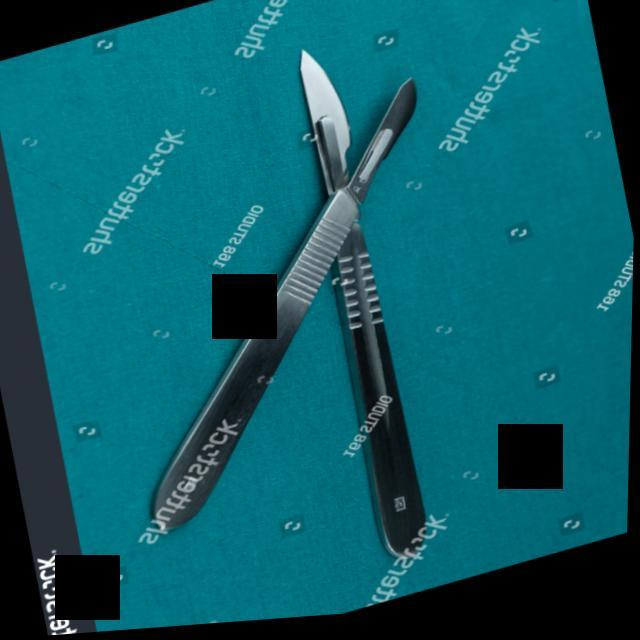Knife handle: (88, 155, 418, 544), (314, 201, 482, 581), (275, 24, 377, 204)
Surgical blade: (330, 78, 480, 214)
